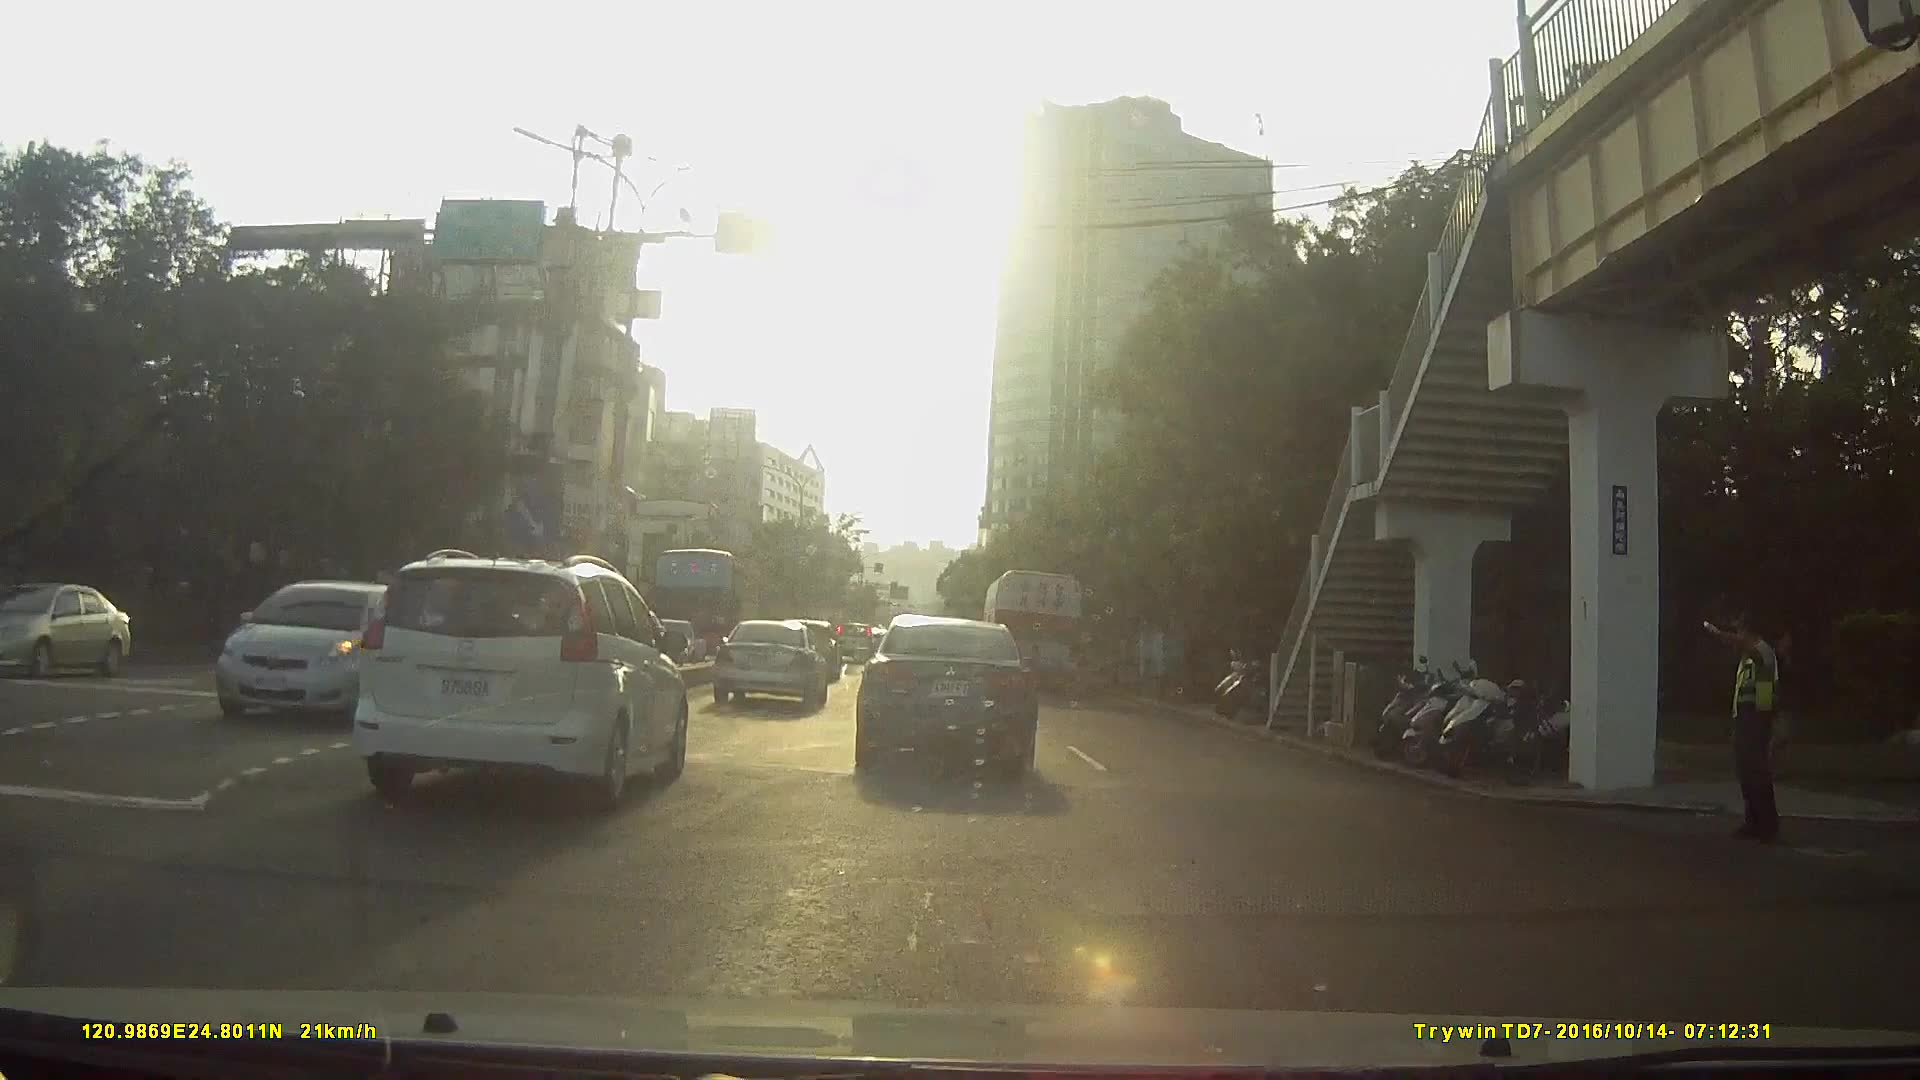pedestrian: (1698, 600, 1796, 851)
vehicle: (250, 556, 684, 868), (356, 548, 691, 808), (197, 575, 426, 745), (855, 609, 1040, 780), (3, 584, 149, 683), (976, 567, 1085, 699), (643, 546, 764, 661), (715, 618, 830, 711), (829, 618, 876, 661)
